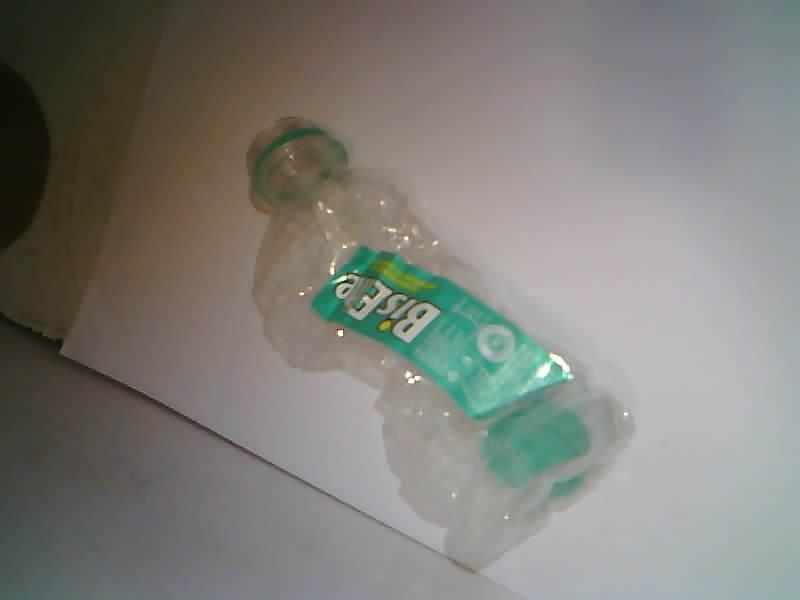non-biodegradable: (251, 119, 631, 567)
